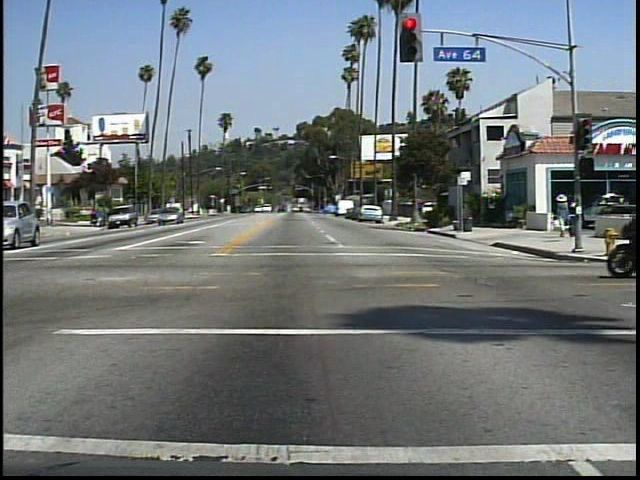person: (558, 190, 576, 243)
